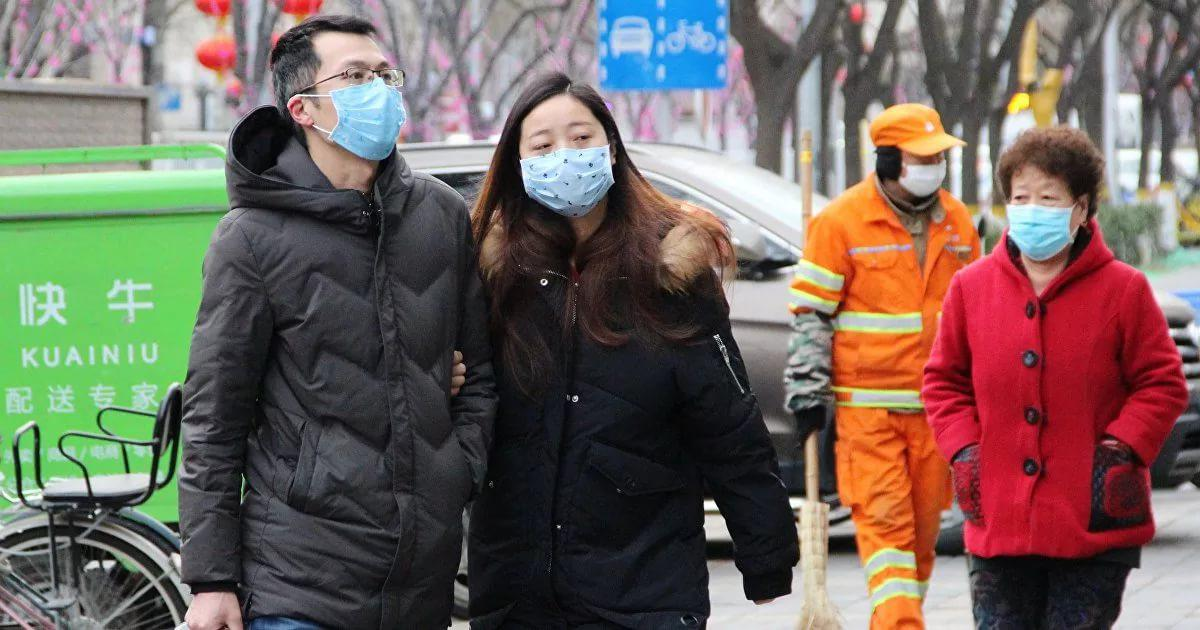mask: (312, 28, 406, 162), (518, 98, 612, 213), (1004, 167, 1073, 258), (892, 121, 949, 199)
